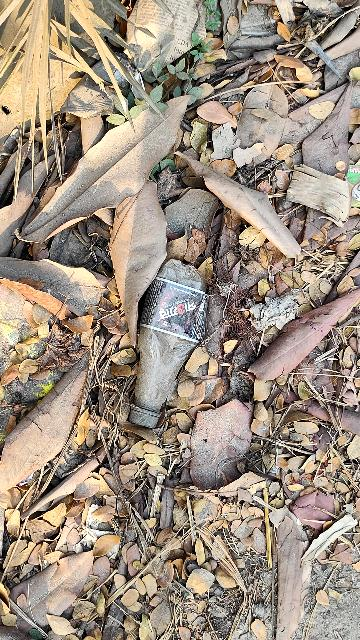bottle: (119, 260, 219, 432)
